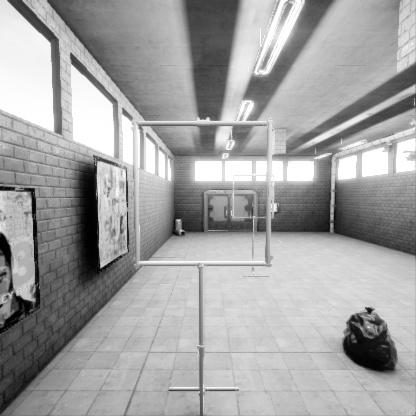gate: (136, 157, 279, 298), (233, 199, 277, 242), (266, 206, 275, 234)
